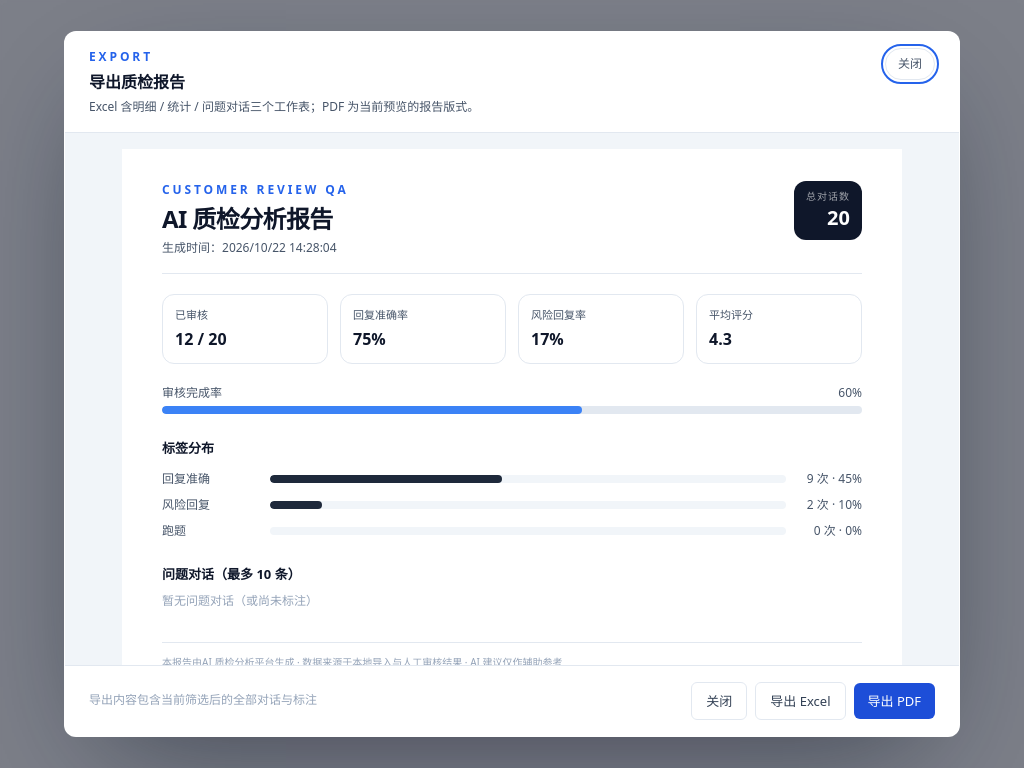
Test: ExportReportPanel Excel 导出 › 点击导出 Excel → 动态导入导出器，传入 conversations/annotations/analytics 与文件名，成功提示后按钮恢复
Click the button "导出 Excel": (800, 701) [755, 682, 846, 720]
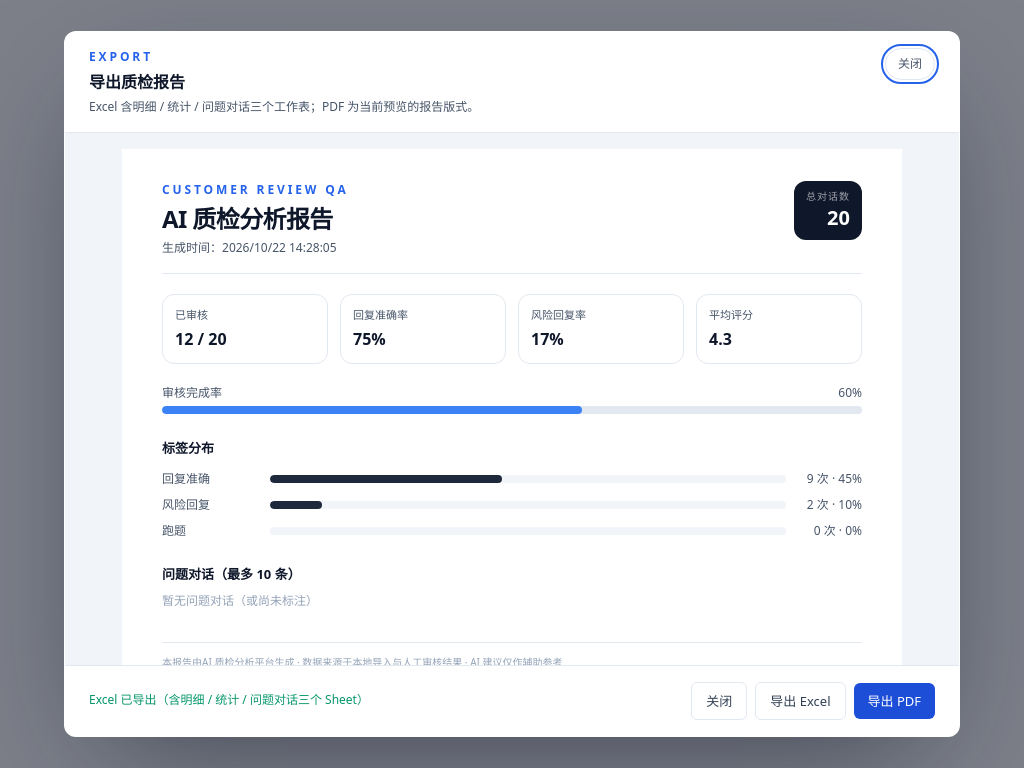
Result: the text "Excel 已导出（含明细 / 统计 / 问题对话三个 Sheet）" is shown at [89, 691, 369, 708]
